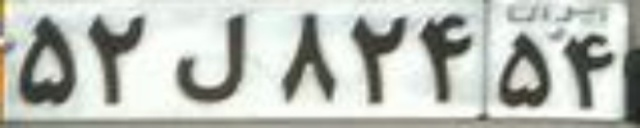2: (351, 13, 412, 103), (87, 13, 142, 104)
4: (418, 13, 471, 101), (561, 31, 620, 109)
5: (17, 14, 82, 106), (496, 30, 552, 108)
8: (279, 12, 335, 102)
lam: (171, 13, 246, 104)
